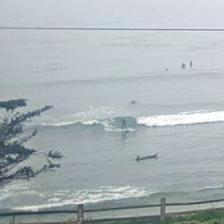surfer: (146, 154, 158, 159), (120, 118, 126, 126), (135, 155, 141, 162), (182, 62, 186, 70), (189, 60, 193, 67), (131, 99, 136, 104), (164, 68, 168, 71)
